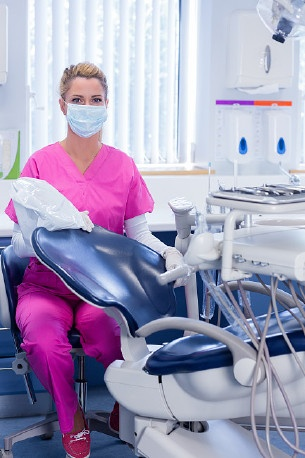Mask: (66, 92, 112, 138)
